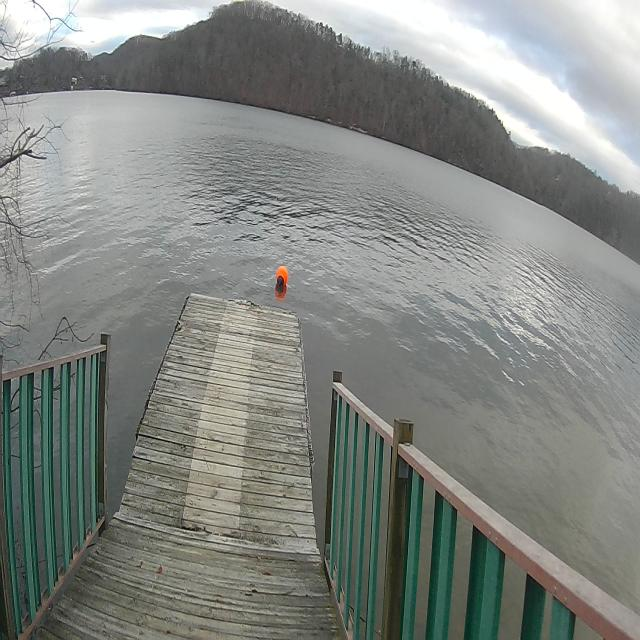Buoy: (274, 257, 293, 306)
